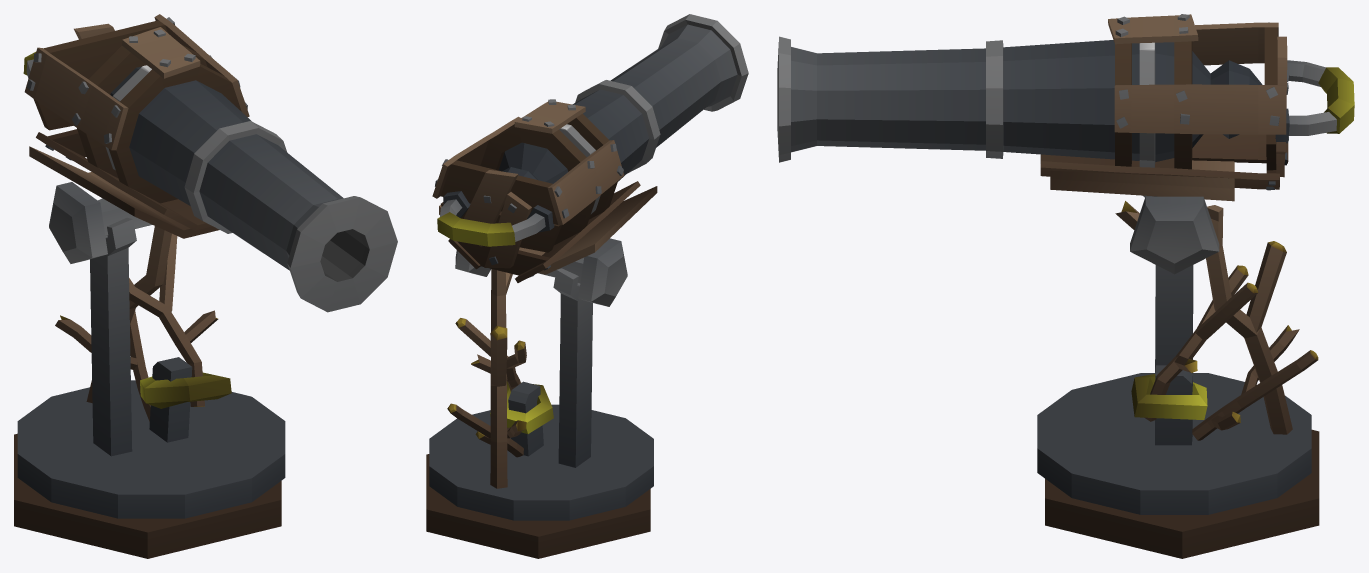
Rendered from CannonGradient.fbx.
3 renders of one model, left to right at view 1: azimuth 30°, elevation 25°; view 2: azimuth 150°, elevation 25°; view 3: azimuth 270°, elevation 25°, orthographic. The views are drawn at different scales.
Parts seen in each view (by area): view 1: cannon, rotatingbase, truebase, pivot; view 2: cannon, rotatingbase, truebase, pivot; view 3: cannon, rotatingbase, truebase, pivot.
Part boxes in pixels (x1,y1,x2,y2): cannon: (23, 14, 397, 312); rotatingbase: (17, 198, 285, 518); truebase: (14, 433, 281, 558); pivot: (29, 146, 219, 263); cannon: (432, 14, 748, 282); rotatingbase: (429, 268, 653, 520); truebase: (426, 454, 650, 558); pivot: (439, 186, 657, 306); cannon: (777, 14, 1354, 190); rotatingbase: (1037, 195, 1318, 514); truebase: (1045, 429, 1319, 558); pivot: (1050, 160, 1234, 274).
Bounding box in the file's own units: 76.33 × 125 × 139.
